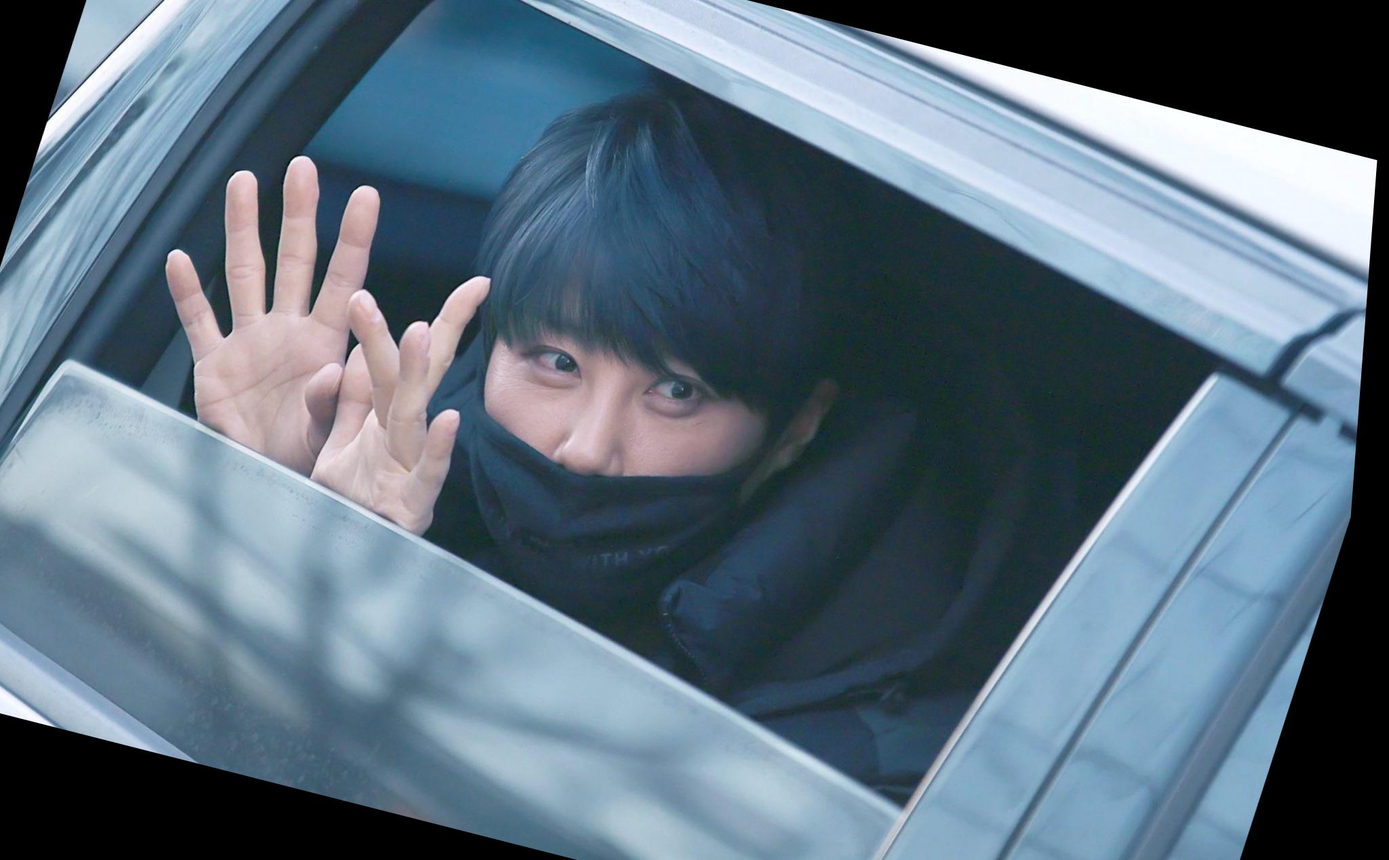WRONG: (410, 248, 836, 650)
